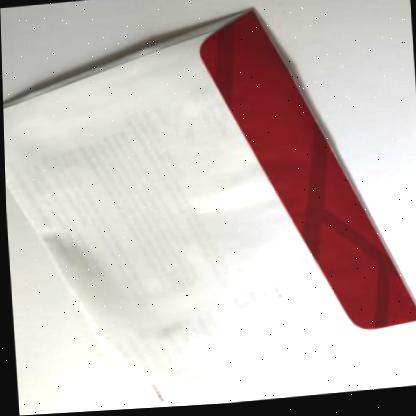Paper: (2, 12, 416, 410)
